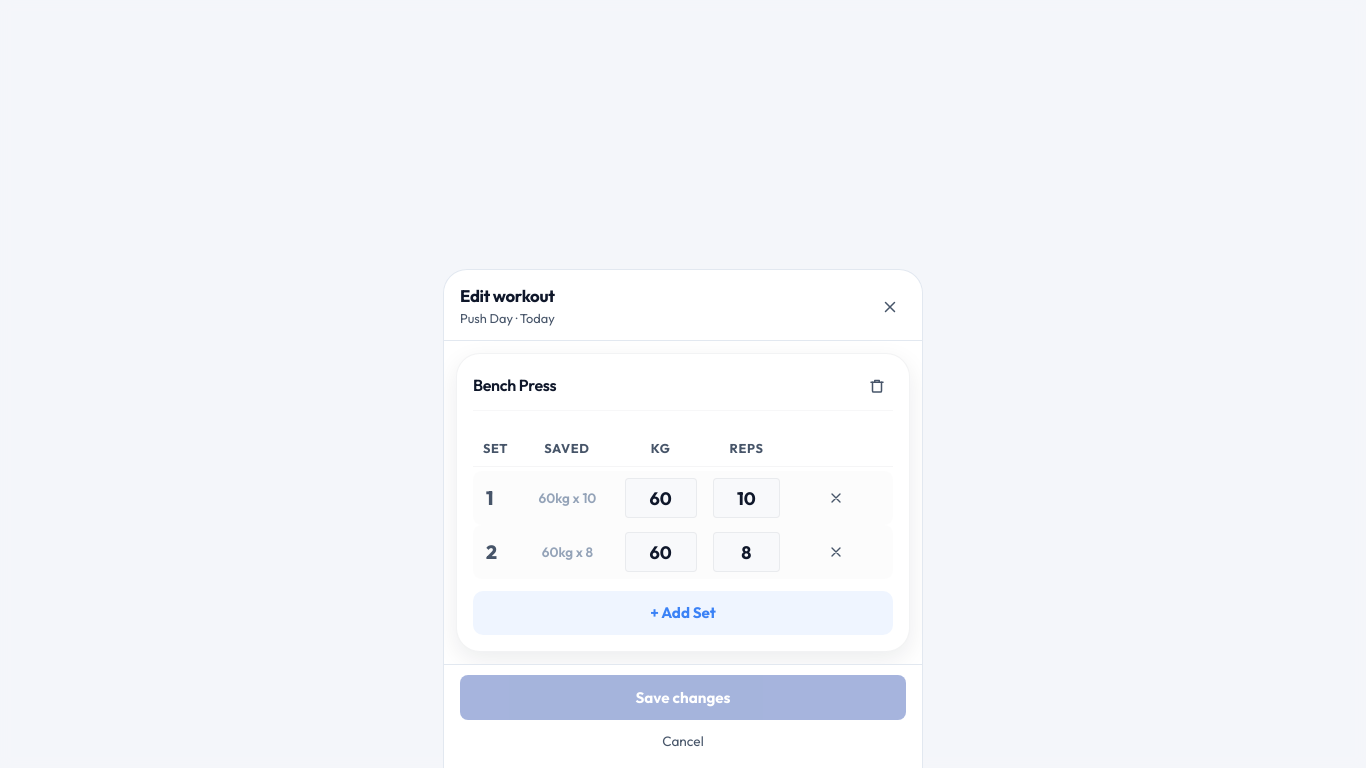
Test case: EditSavedWorkoutModal › won't remove every set
The width and height of the screenshot is (1366, 768).
Click the button named "Remove Bench Press".
click(877, 386)  # box [861,370,893,402]
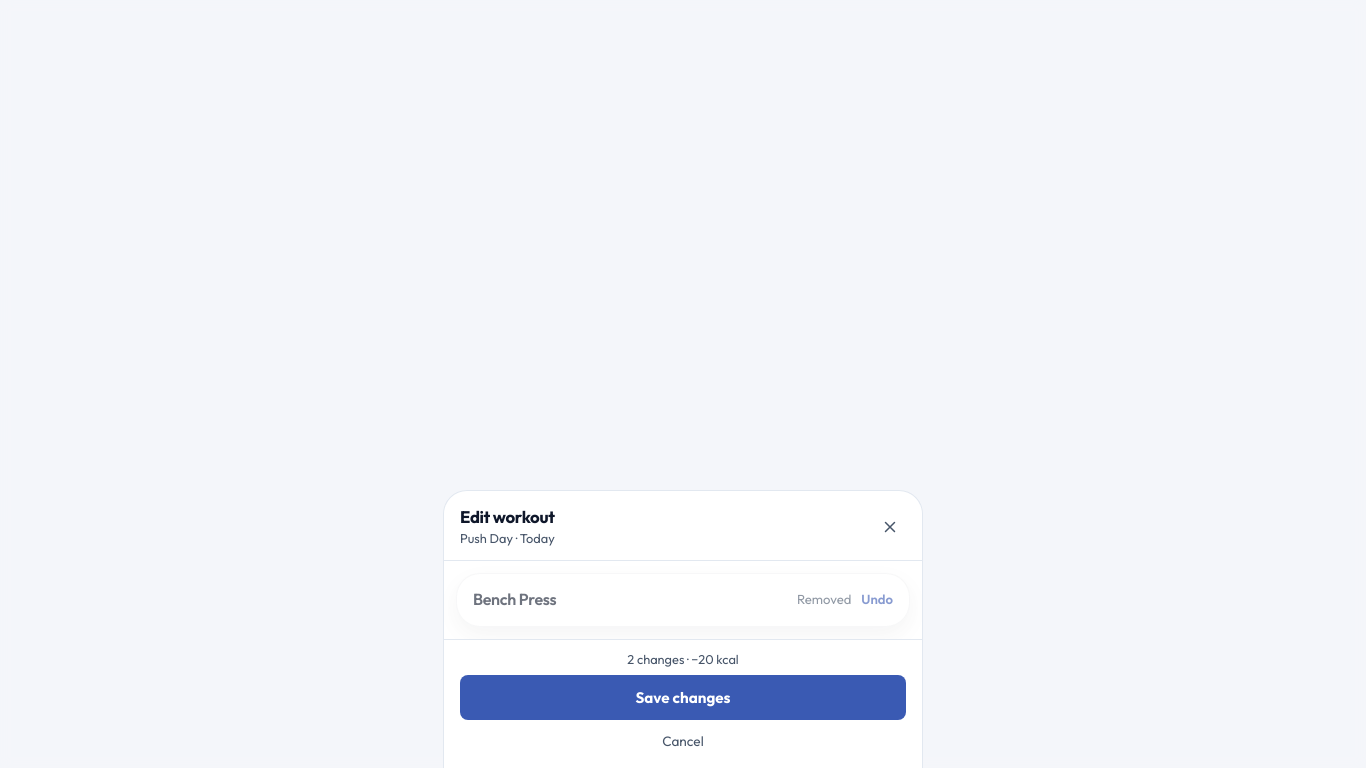
Now the text "Removed" is shown, box [797,591,851,607]
Click the button "Save changes".
click(683, 698)  # box [460,675,906,720]
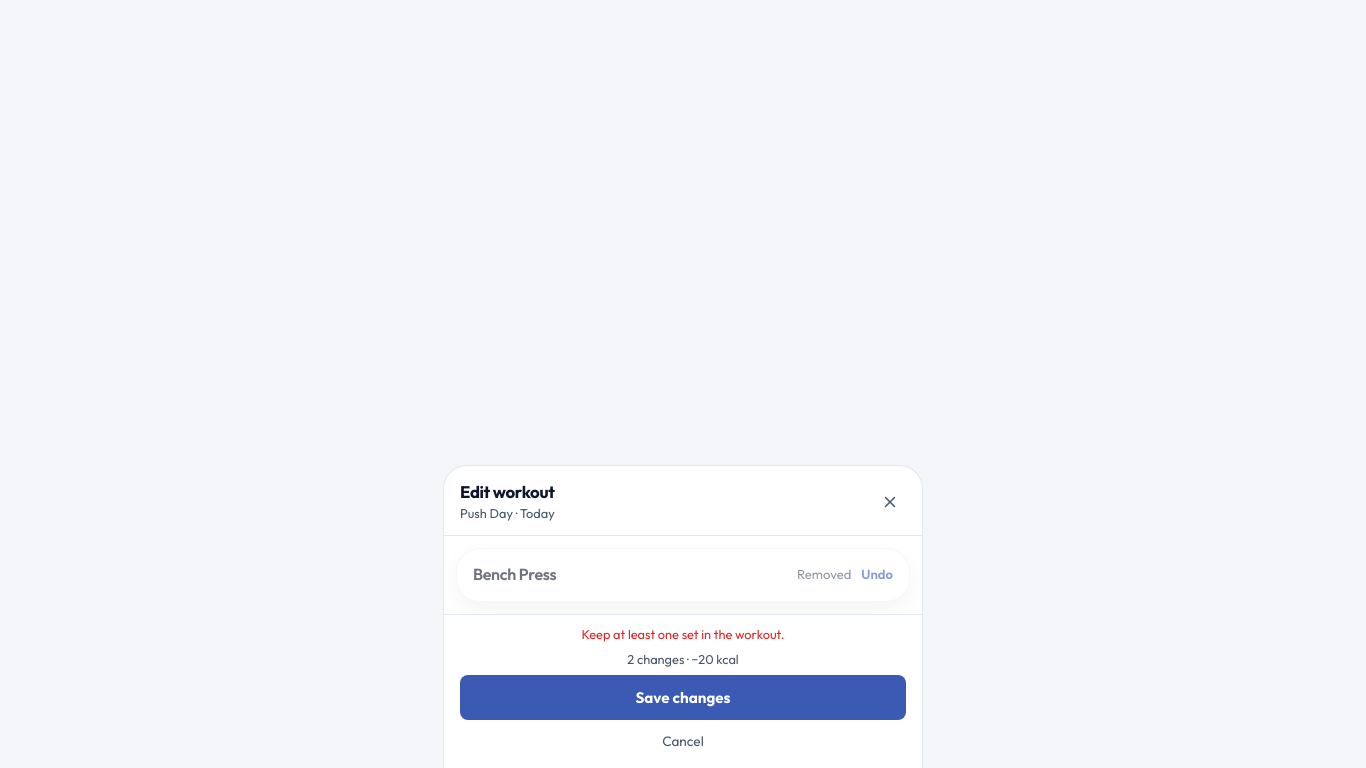
Now the message shows "at least one set", box [581,626,785,642]
